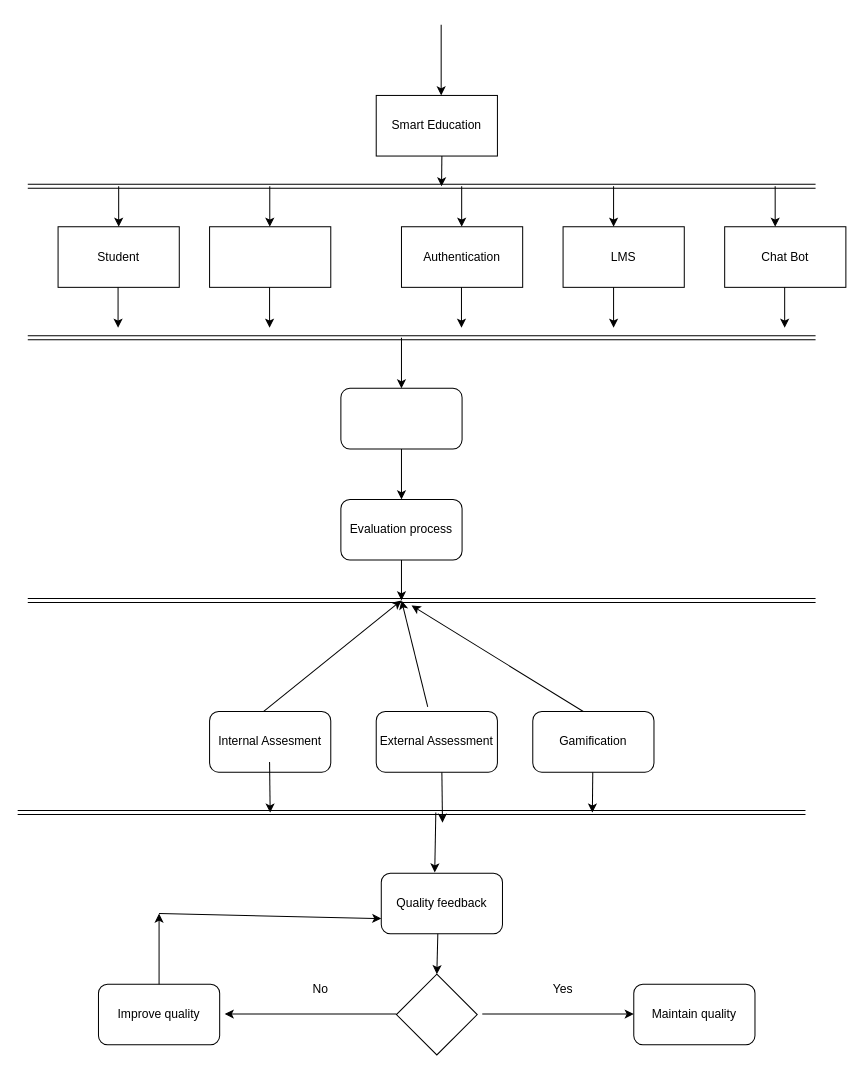
This 864x1073 diagram has some shape labels left out. The shapes that lost their labels are listed below. From the top down, each one's box as (x1, y1, x2, y2) in pixels, then its label:
(209, 226, 331, 287): Teachers
(340, 387, 462, 449): Policies and Procedure
(395, 973, 477, 1055): Is quality ok
